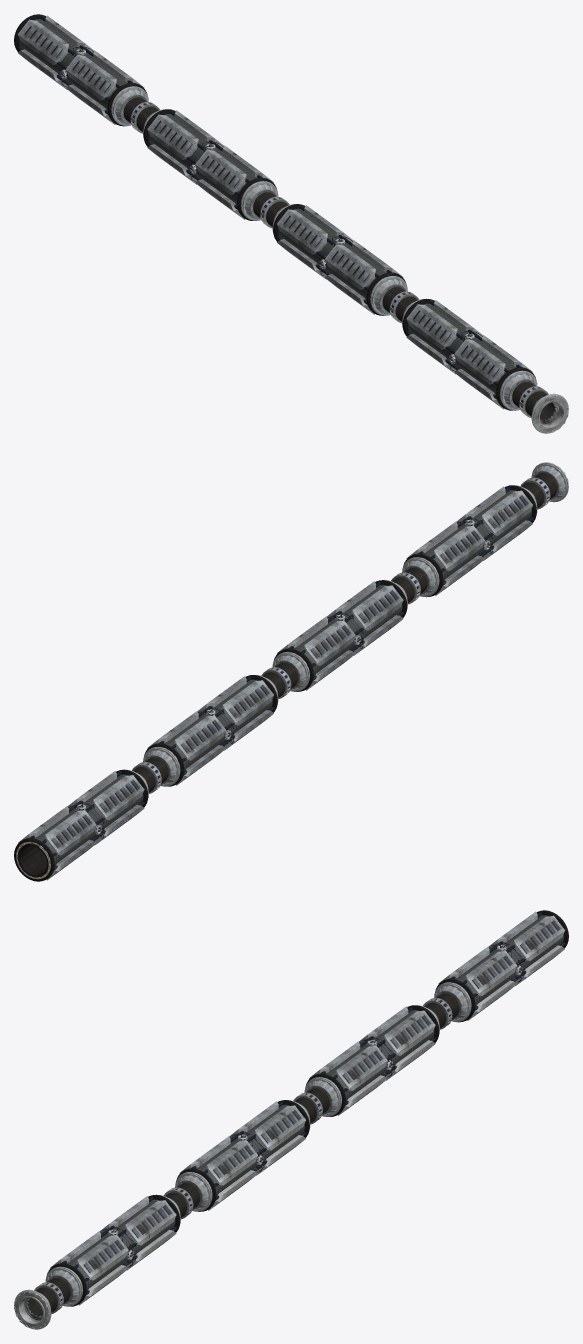
File: I_Shape_4Pipes.fbx
3 renders of one model, top to bottom at view 1: azimuth 30°, elevation 25°; view 2: azimuth 150°, elevation 25°; view 3: azimuth 330°, elevation 25°, orthographic.
Visible parts, largest first — view 1: I_Shape_4Pipes; view 2: I_Shape_4Pipes; view 3: I_Shape_4Pipes.
Boxes of the visible parts, left/top/right/bottom form: I_Shape_4Pipes: left=14, top=14, right=568, bottom=433; I_Shape_4Pipes: left=14, top=462, right=568, bottom=881; I_Shape_4Pipes: left=14, top=910, right=568, bottom=1329.
Size of the model in its own units: 52.54 by 51.61 by 1081.
